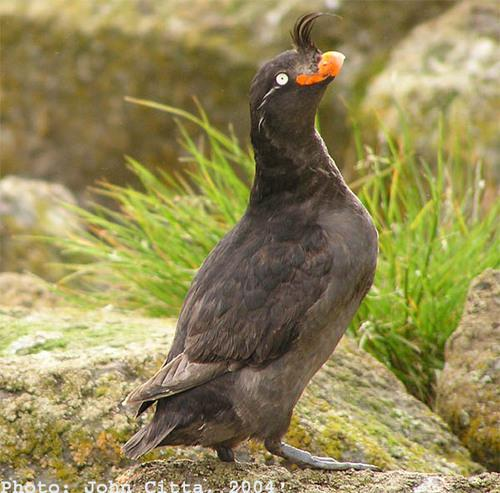005.Crested_Auklet: (118, 8, 381, 476)
